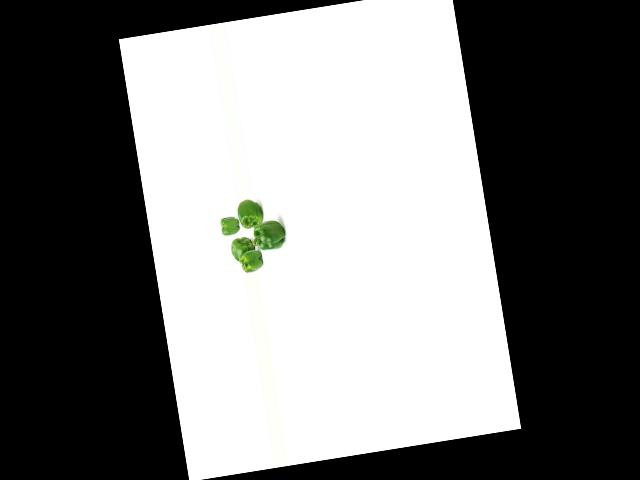bell_pepper: (239, 246, 267, 273)
